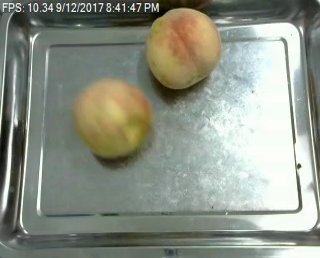Peach: (71, 77, 152, 158), (145, 7, 221, 89)
